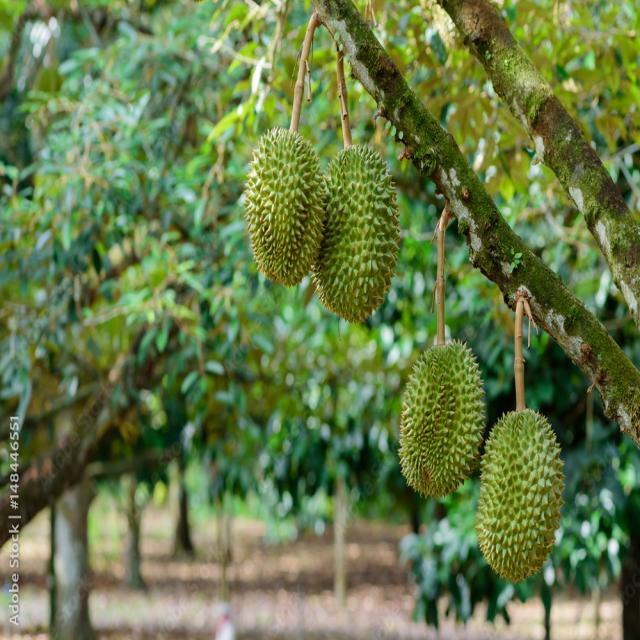immature: (308, 141, 398, 327), (472, 401, 562, 582), (398, 341, 486, 505), (244, 126, 328, 289)
